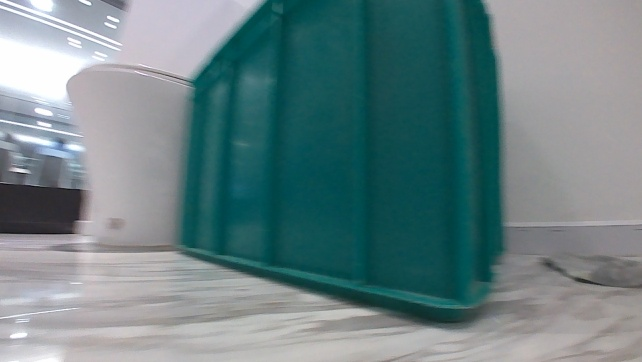socks: (537, 248, 641, 289)
toilet: (62, 60, 194, 251)
